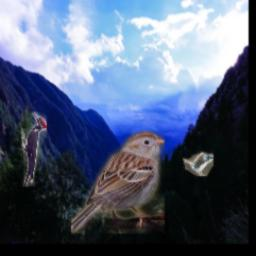Sparrow: (71, 131, 165, 233)
Swallow: (184, 152, 215, 176)
Woodpecker: (21, 113, 47, 187)
